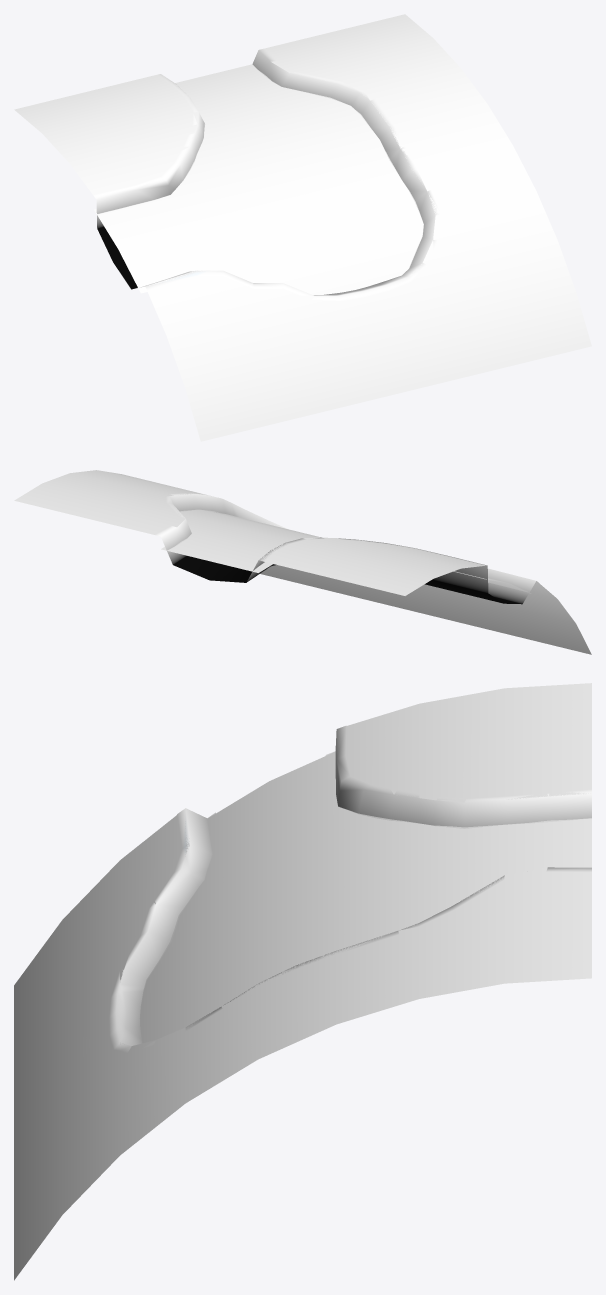
File: grd_Rsw_P_1.dae
The picture shows the model from 3 angles, top to bottom: view 1: azimuth 30°, elevation 25°; view 2: azimuth 150°, elevation 25°; view 3: azimuth 270°, elevation 25°; orthographic projection. The views are drawn at different scales.
Parts seen in each view (by area): view 1: grd_Rsw_P_1; view 2: grd_Rsw_P_1; view 3: grd_Rsw_P_1.
Part boxes in pixels (x1,y1,x2,y2): grd_Rsw_P_1: [14, 14, 591, 441]; grd_Rsw_P_1: [14, 470, 591, 654]; grd_Rsw_P_1: [14, 683, 591, 1280].
Bounding box in the file's own units: 512 × 244 × 423.
4 materials, 1 textured.
